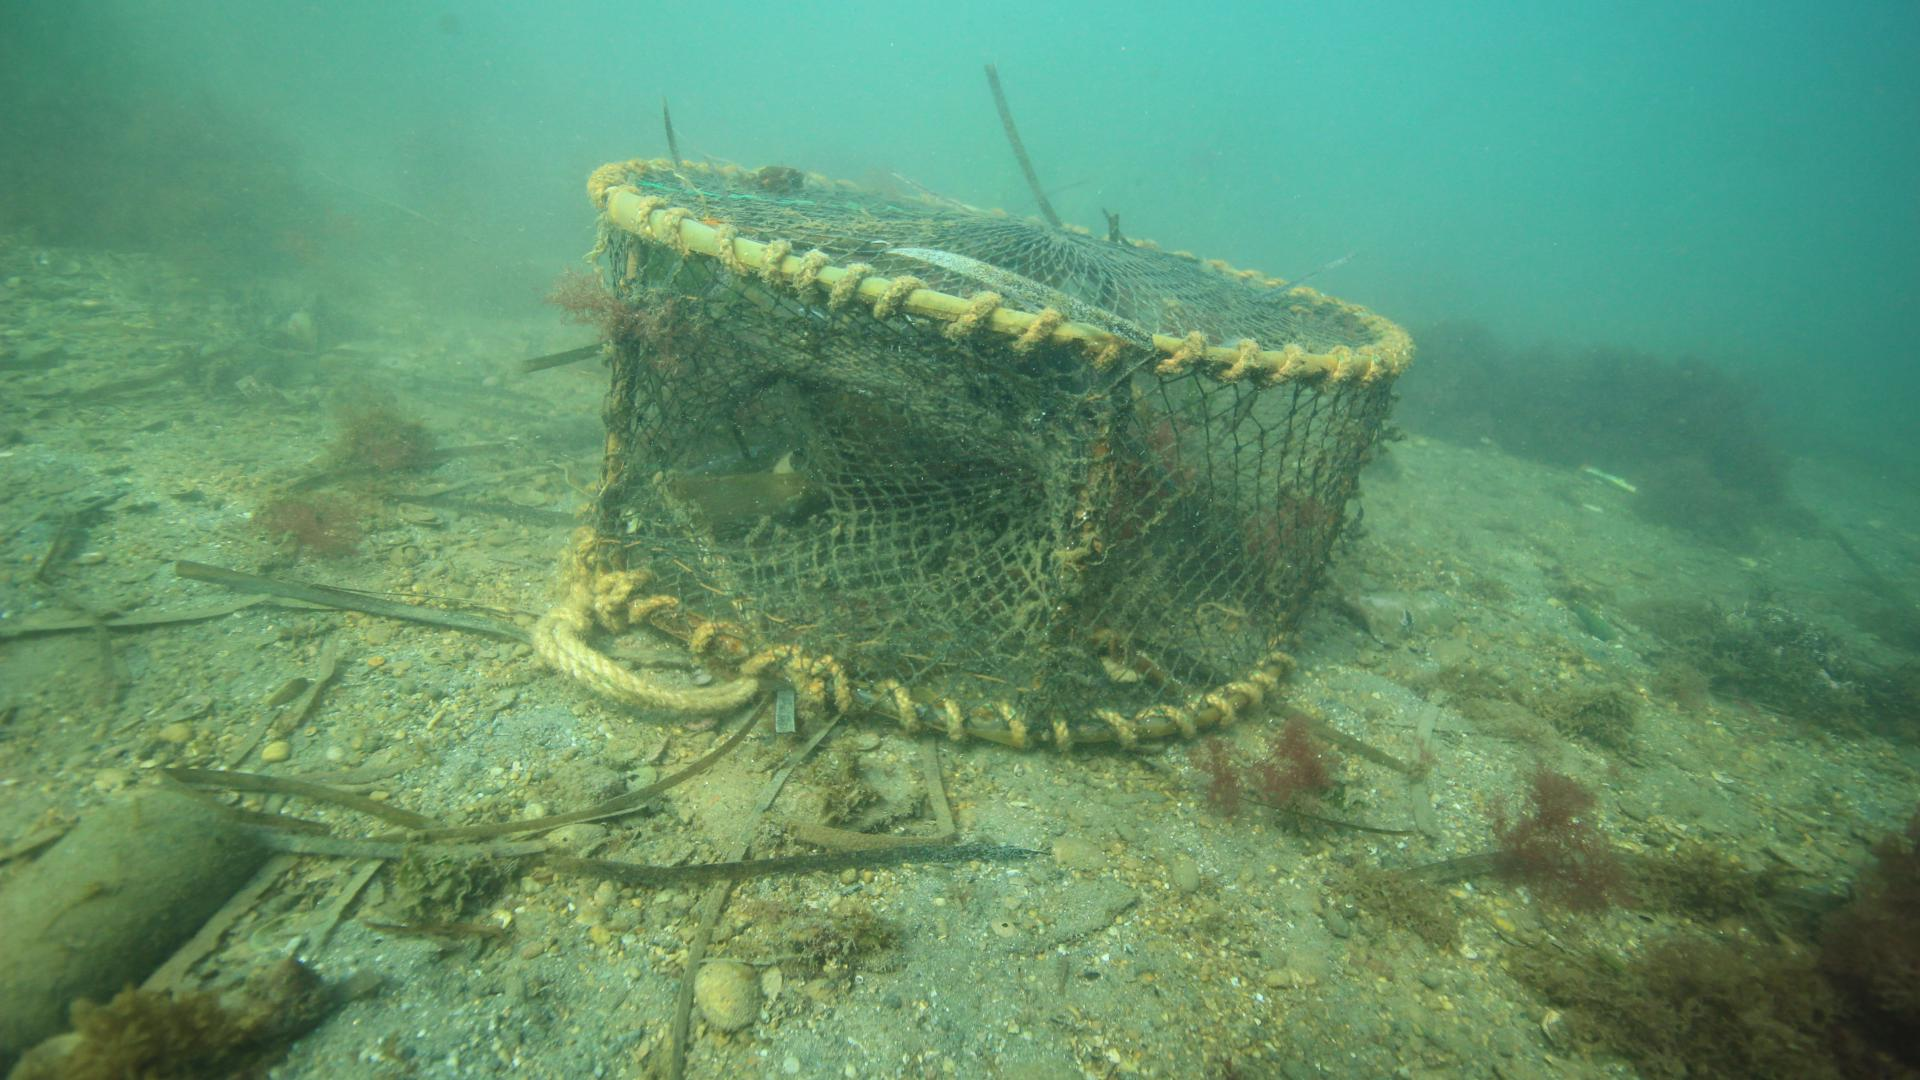bundle of ropes: (525, 578, 764, 715)
circular fish trap: (582, 154, 1416, 750)
